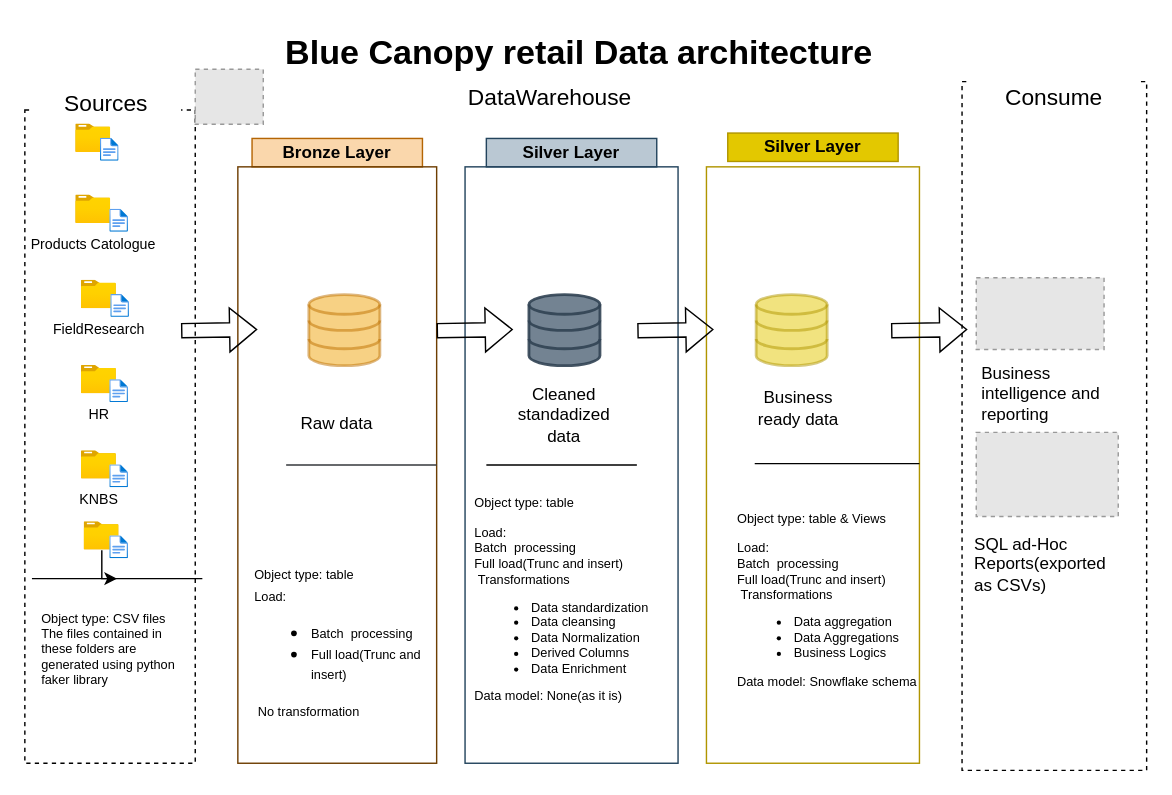
The diagram is 1172 pixels wide and 795 high, and some of its shapes have lost their labels. Grey dashed boxes stand in for pictures. The box of each missing label's shape, as (x1, y1, x2, y2) in pixels:
CRM: (84, 521, 119, 550)
POS: (75, 124, 110, 152)
